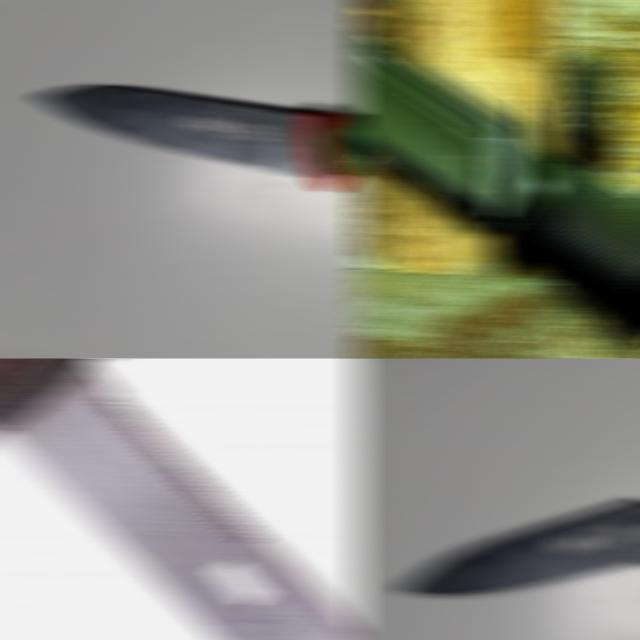Knife: (0, 358, 364, 640), (36, 84, 364, 190), (399, 499, 640, 594)
